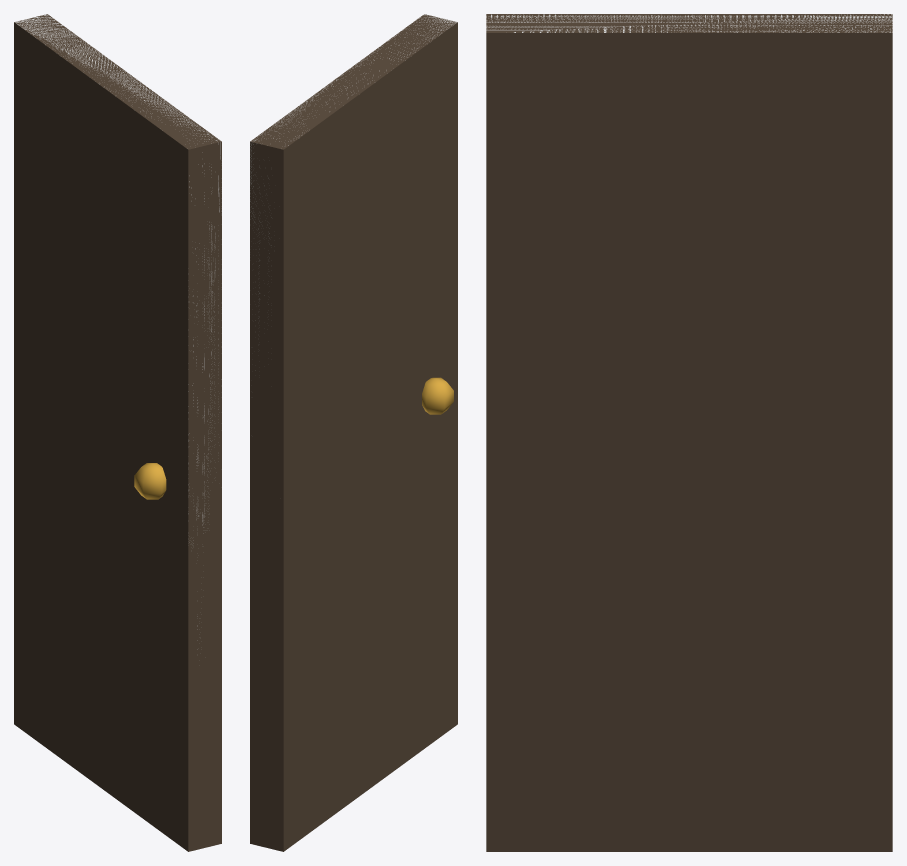
File: booth-14-extra.glb
3 renders of one model, left to right at view 1: azimuth 30°, elevation 25°; view 2: azimuth 150°, elevation 25°; view 3: azimuth 270°, elevation 25°, orthographic. The views are drawn at different scales.
Visible parts, largest first — view 1: 00_#5a4a3a_r320, solid, 01_#d8a840_r110; view 2: 00_#5a4a3a_r320, 01_#d8a840_r110, solid; view 3: 00_#5a4a3a_r320, solid.
Part boxes in pixels (bbox=[...]): 00_#5a4a3a_r320: bbox=[14, 14, 221, 851]; solid: bbox=[14, 14, 221, 649]; 01_#d8a840_r110: bbox=[134, 463, 166, 499]; 00_#5a4a3a_r320: bbox=[250, 14, 457, 851]; 01_#d8a840_r110: bbox=[422, 377, 453, 414]; solid: bbox=[250, 14, 457, 370]; 00_#5a4a3a_r320: bbox=[486, 14, 892, 851]; solid: bbox=[486, 14, 892, 32].
Size of the model in its own units: 0.1612 by 2 by 0.9.
